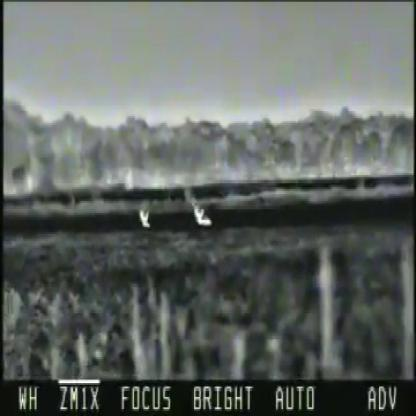rehkitze: (190, 206, 214, 230), (134, 207, 153, 229)
